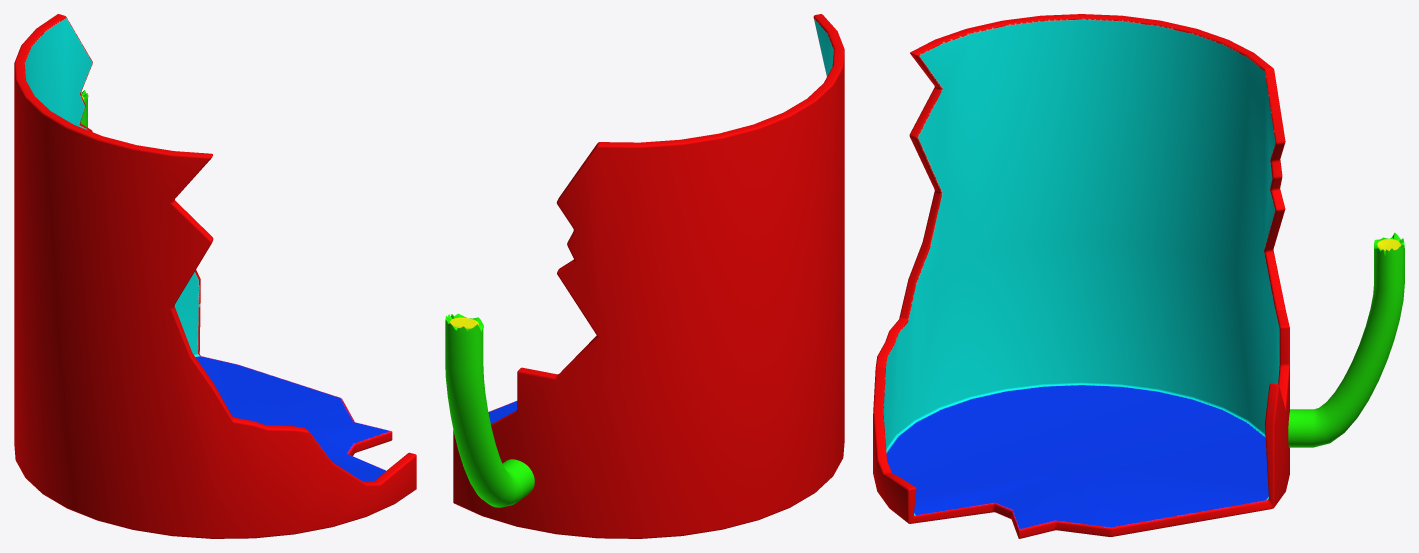
File: mug2.fbx
3 views of the same model, side by side, from view 1: azimuth 30°, elevation 25°; view 2: azimuth 150°, elevation 25°; view 3: azimuth 270°, elevation 25° (orthographic). The views are drawn at different scales.
Parts seen in each view (by area): view 1: Circle; view 2: Circle, Cylinder; view 3: Circle, Cylinder.
Boxes of the visible parts, box(x1,y1,x2,y2) form: Circle: box(14, 14, 416, 538); Circle: box(453, 14, 844, 538); Cylinder: box(445, 313, 534, 507); Circle: box(873, 14, 1289, 538); Cylinder: box(1288, 232, 1404, 447).
Size of the model in its own units: 173 by 198 by 255.
Materials: 1 (1 with a texture image).
